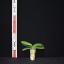leaf: (21, 41, 33, 47), (22, 44, 33, 50), (33, 43, 44, 48), (22, 47, 32, 51), (33, 47, 45, 50)
